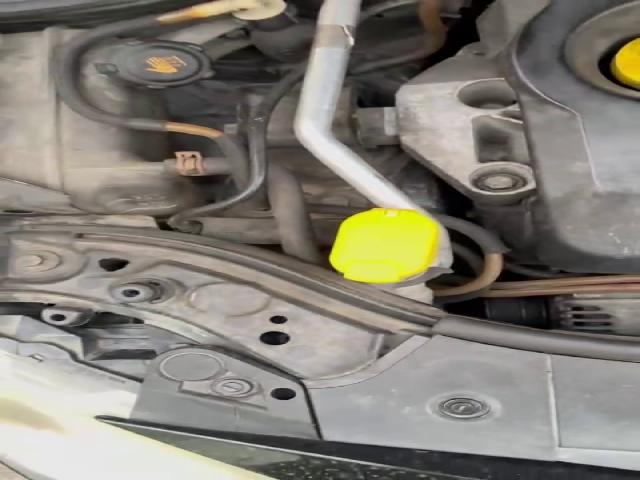antifreeze_tank: (2, 28, 199, 214), (82, 39, 210, 119)
